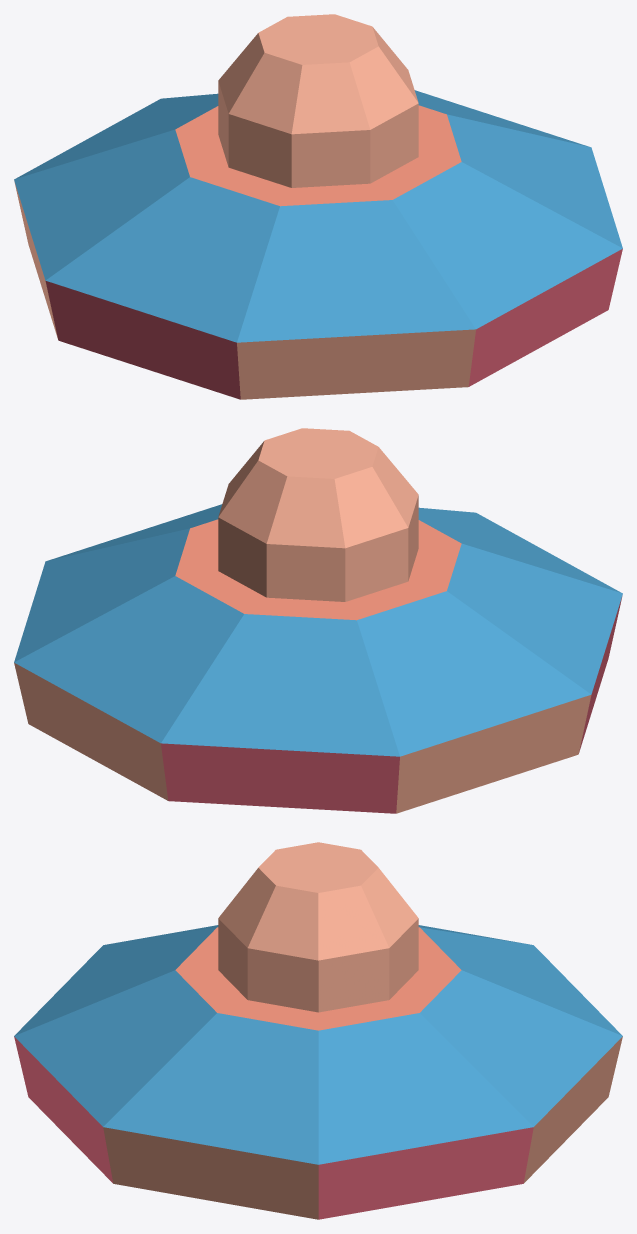
Rendered from ufo.glb.
3 views of the same model, one above another, from view 1: azimuth 30°, elevation 25°; view 2: azimuth 150°, elevation 25°; view 3: azimuth 270°, elevation 25° (orthographic). The views are drawn at different scales.
Visible parts, largest first — view 1: Circle; view 2: Circle; view 3: Circle.
Boxes of the visible parts, x1,y1,x2,y2 form: Circle: [14, 14, 622, 399]; Circle: [14, 428, 622, 813]; Circle: [14, 842, 622, 1219].
Bounding box in the file's own units: 2.13 × 0.9971 × 2.13.
1 material, 1 textured.
